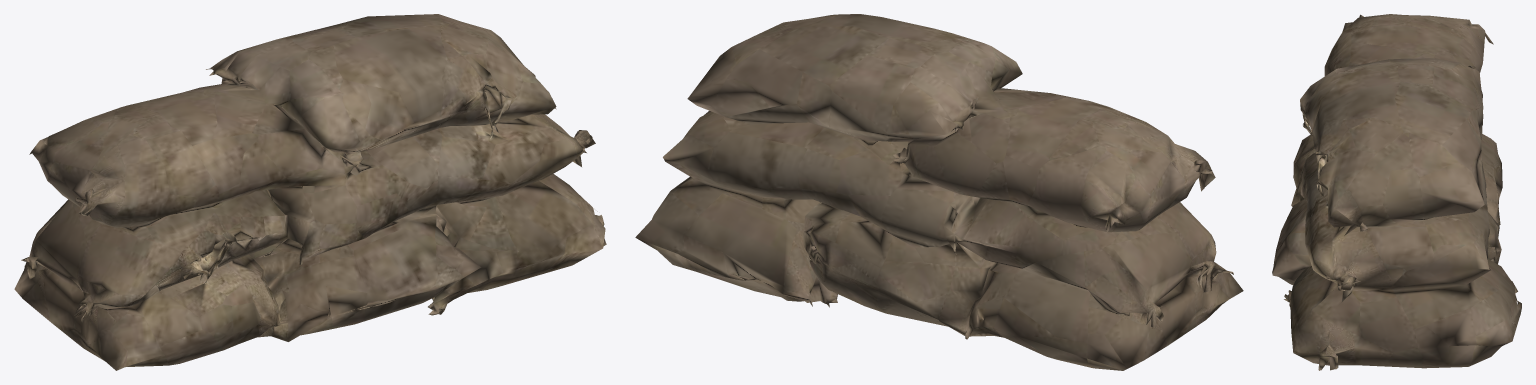
File: sandbags_low.glb
3 views of the same model, side by side, from view 1: azimuth 30°, elevation 25°; view 2: azimuth 150°, elevation 25°; view 3: azimuth 270°, elevation 25° (orthographic). The views are drawn at different scales.
Size of the model in its own units: 1.89 by 0.821 by 0.8831.
1 material, 1 textured.
